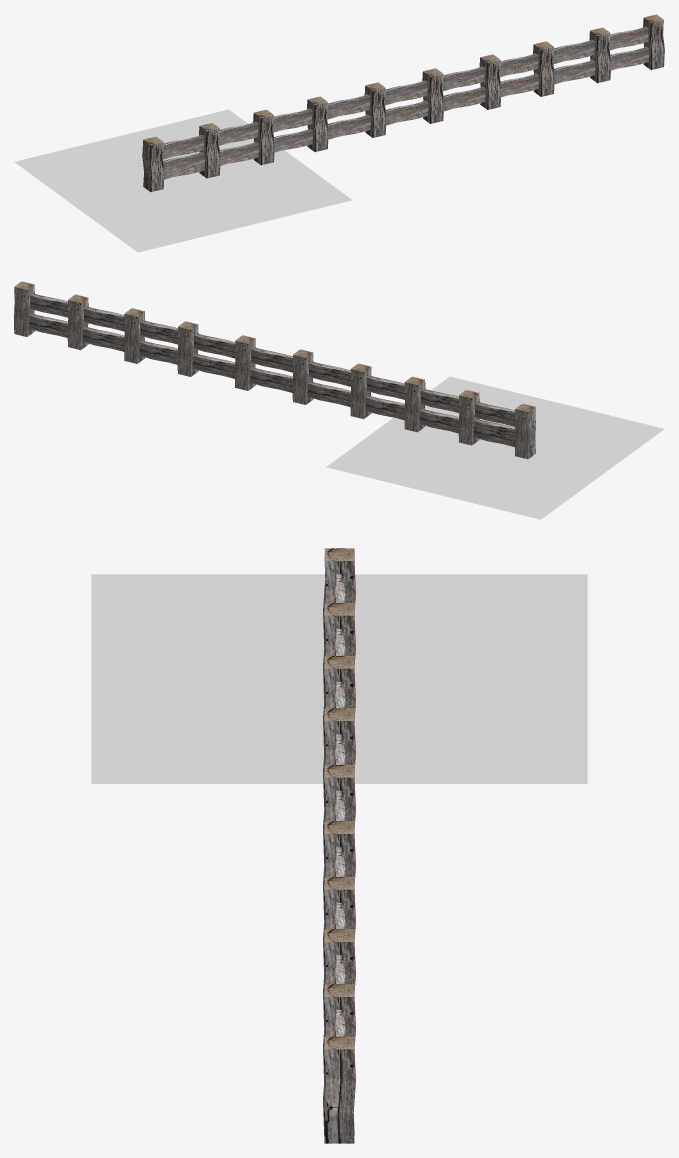
File: fence10x1.fbx
The picture shows the model from 3 angles, top to bottom: view 1: azimuth 30°, elevation 25°; view 2: azimuth 150°, elevation 25°; view 3: azimuth 270°, elevation 25°; orthographic projection. The views are drawn at different scales.
Visible parts, largest first — view 1: Plane, Cube.008, Cube.032, Cube.023, Cube.013, Cube.035, Cube.026, Cube.029, Cube.014, Cube.017, Cube.001, Cube.022 (+17 smaller); view 2: Plane, Cube.008, Cube.029, Cube.013, Cube.023, Cube.035, Cube.014, Cube.026, Cube.032, Cube.017, Cube.001, Cube.021 (+17 smaller); view 3: Plane, Cube.035, Cube.014, Cube.017, Cube.023, Cube.029, Cube.008, Cube.001, Cube.013, Cube.032, Cube.026.
Boxes of the visible parts, <box> form: Plane: <box>14,109,352,252</box>; Cube.008: <box>142,136,164,191</box>; Cube.032: <box>589,27,611,83</box>; Cube.023: <box>422,68,444,123</box>; Cube.013: <box>253,109,274,165</box>; Cube.035: <box>643,14,664,69</box>; Cube.026: <box>479,54,501,109</box>; Cube.029: <box>533,41,554,96</box>; Cube.014: <box>307,96,328,151</box>; Cube.017: <box>364,82,386,137</box>; Cube.001: <box>199,122,220,178</box>; Cube.022: <box>385,80,427,105</box>; Plane: <box>326,376,664,519</box>; Cube.008: <box>515,403,535,459</box>; Cube.029: <box>124,308,144,363</box>; Cube.013: <box>404,376,425,432</box>; Cube.023: <box>235,335,255,390</box>; Cube.035: <box>14,281,34,336</box>; Cube.014: <box>350,363,371,419</box>; Cube.026: <box>177,321,198,376</box>; Cube.032: <box>67,294,88,350</box>; Cube.017: <box>292,349,313,404</box>; Cube.001: <box>458,389,479,445</box>; Cube.021: <box>250,367,292,392</box>; Plane: <box>91,574,587,783</box>; Cube.035: <box>323,1036,355,1143</box>; Cube.014: <box>323,708,355,806</box>; Cube.017: <box>323,765,355,863</box>; Cube.023: <box>323,821,355,919</box>; Cube.029: <box>323,929,355,1027</box>; Cube.008: <box>323,548,355,646</box>; Cube.001: <box>323,603,355,701</box>; Cube.013: <box>323,656,355,753</box>; Cube.032: <box>323,984,355,1081</box>; Cube.026: <box>323,877,355,974</box>.
Size of the model in its own units: 2593 by 202 by 952.
